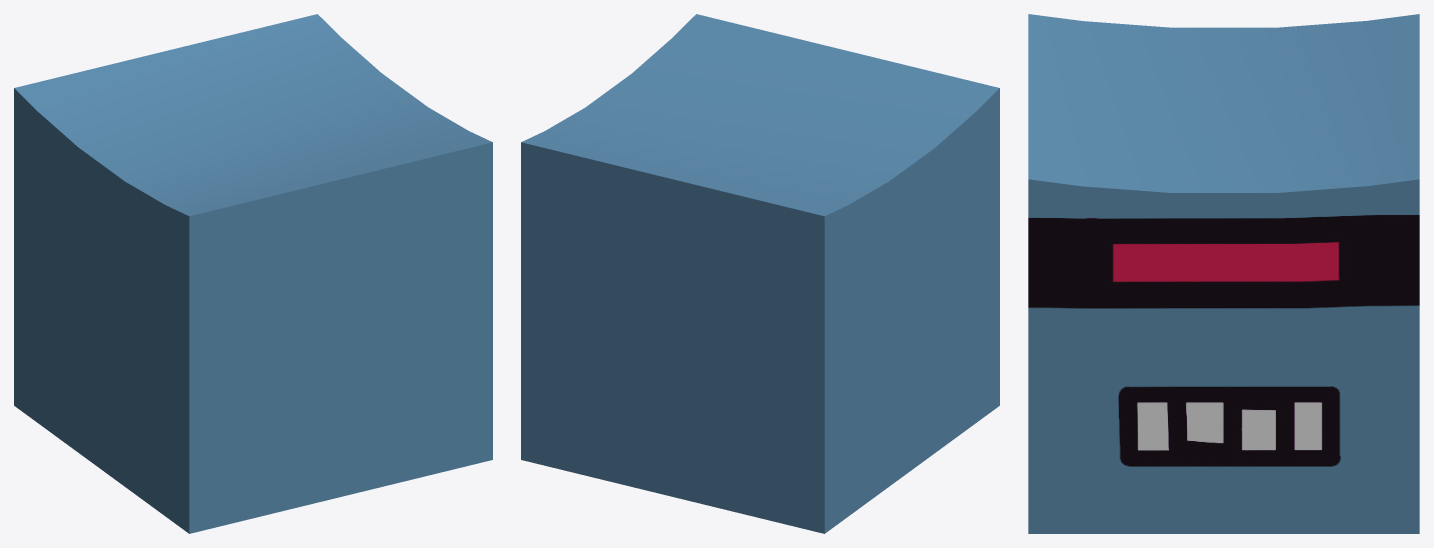
Rendered from robot2.fbx.
3 renders of one model, left to right at view 1: azimuth 30°, elevation 25°; view 2: azimuth 150°, elevation 25°; view 3: azimuth 270°, elevation 25°, orthographic. The views are drawn at different scales.
Parts seen in each view (by area): view 1: Cube.001; view 2: Cube.001; view 3: Cube.001.
Part boxes in pixels (<box>): Cube.001: <box>14,14,492,533</box>; Cube.001: <box>521,14,999,533</box>; Cube.001: <box>1028,14,1419,533</box>.
Bounding box in the file's own units: 200 × 200 × 200.
1 material, 1 textured.
